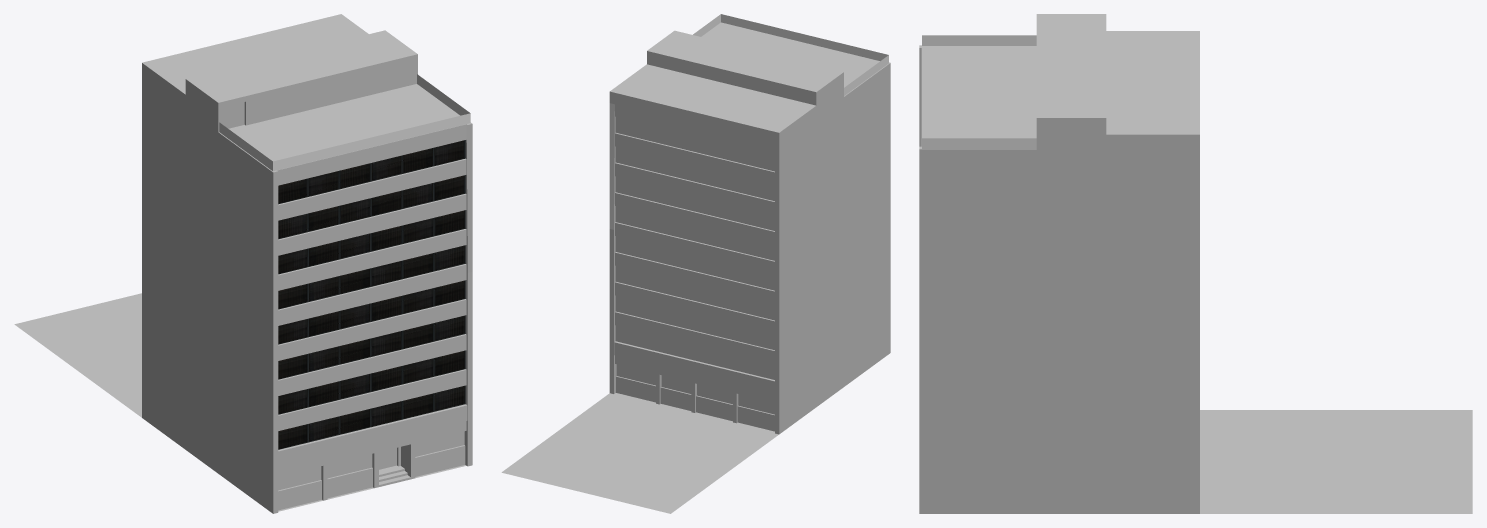
3 views of the same model, side by side, from view 1: azimuth 30°, elevation 25°; view 2: azimuth 150°, elevation 25°; view 3: azimuth 270°, elevation 25° (orthographic). The views are drawn at different scales.
Visible parts, largest first — view 1: BB-009; view 2: BB-009; view 3: BB-009.
Part boxes in pixels (x1,y1,x2,y2): BB-009: (14,14,472,513); BB-009: (501,14,890,513); BB-009: (919,14,1472,513).
Size of what is drawn, in the model's own units: 16.07 by 28.55 by 36.14.
